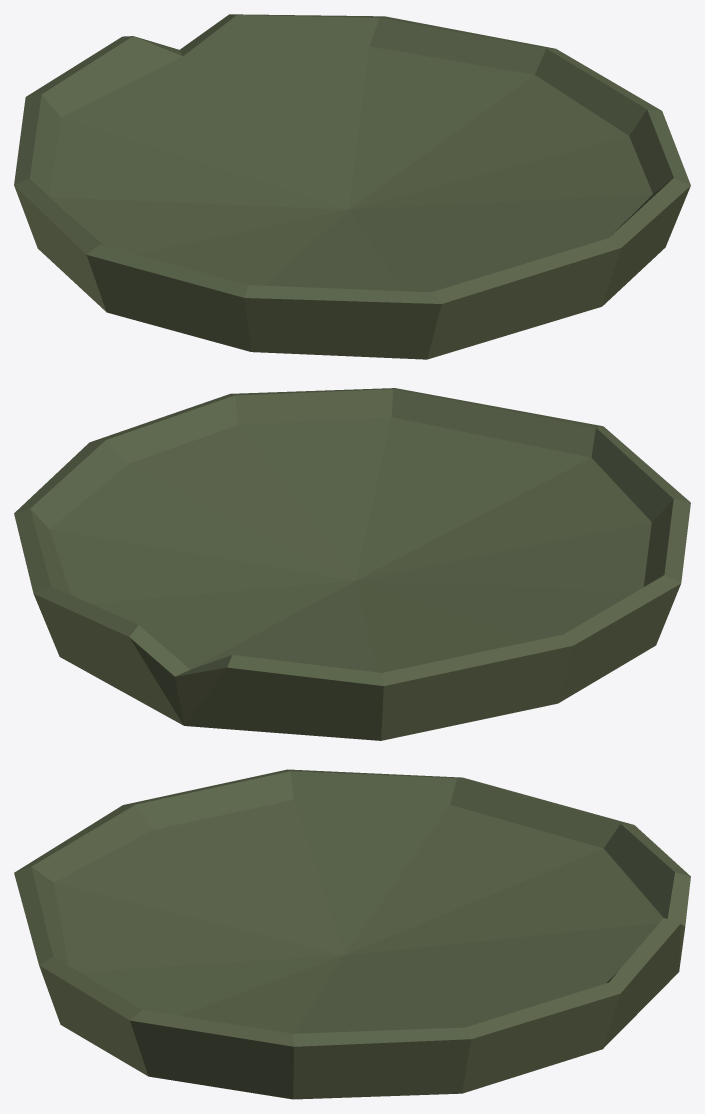
Rendered from synty-plant-lillypad-large-03.gltf.
The picture shows the model from 3 angles, top to bottom: view 1: azimuth 30°, elevation 25°; view 2: azimuth 150°, elevation 25°; view 3: azimuth 270°, elevation 25°; orthographic projection. The views are drawn at different scales.
Parts seen in each view (by area): view 1: SM_Plant_Lillypad_Large_03; view 2: SM_Plant_Lillypad_Large_03; view 3: SM_Plant_Lillypad_Large_03.
Boxes of the visible parts, bbox=[...] form: SM_Plant_Lillypad_Large_03: bbox=[14, 14, 690, 359]; SM_Plant_Lillypad_Large_03: bbox=[14, 388, 690, 740]; SM_Plant_Lillypad_Large_03: bbox=[14, 769, 690, 1099].
Size of the model in its own units: 0.7471 by 0.0997 by 0.7707.
1 material, 1 textured.
